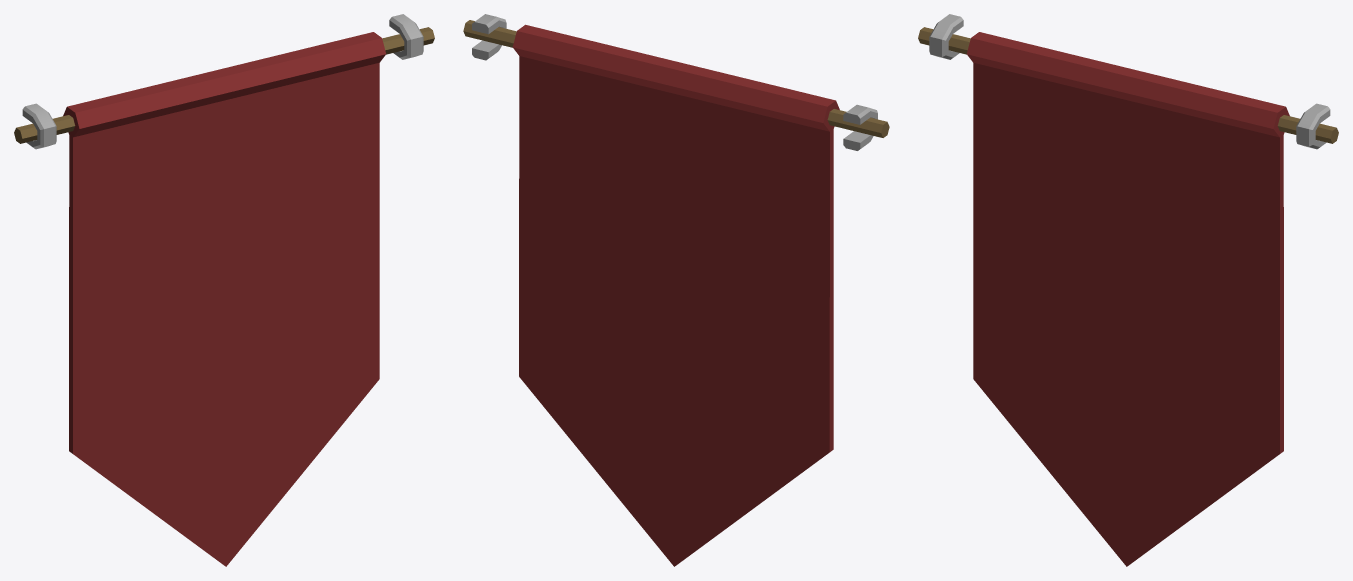
File: WallMountedTapestry_FBX.fbx
3 views of the same model, side by side, from view 1: azimuth 30°, elevation 25°; view 2: azimuth 150°, elevation 25°; view 3: azimuth 330°, elevation 25° (orthographic).
Visible parts, largest first — view 1: pCylinder8; view 2: pCylinder8; view 3: pCylinder8.
Boxes of the visible parts, x1,y1,x2,y2 form: pCylinder8: [14, 14, 434, 566]; pCylinder8: [463, 14, 889, 566]; pCylinder8: [918, 14, 1338, 566].
Bounding box in the file's own units: 85.17 × 98.25 × 6.84.
